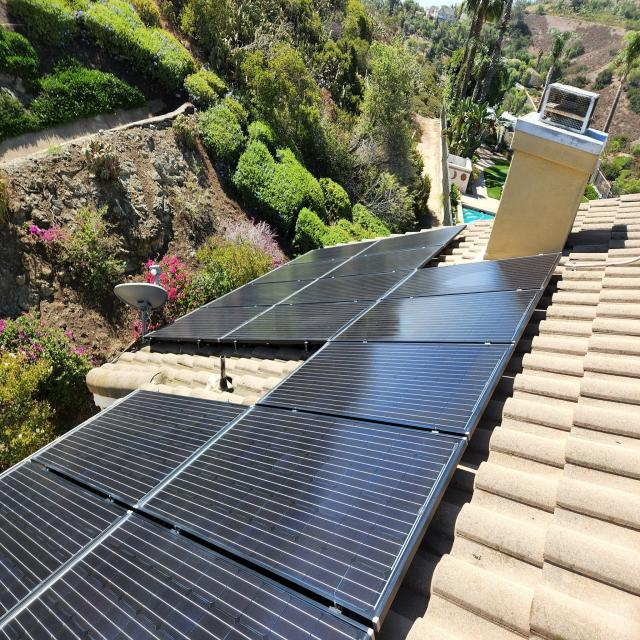clean-solar-panel: (1, 231, 559, 637)
